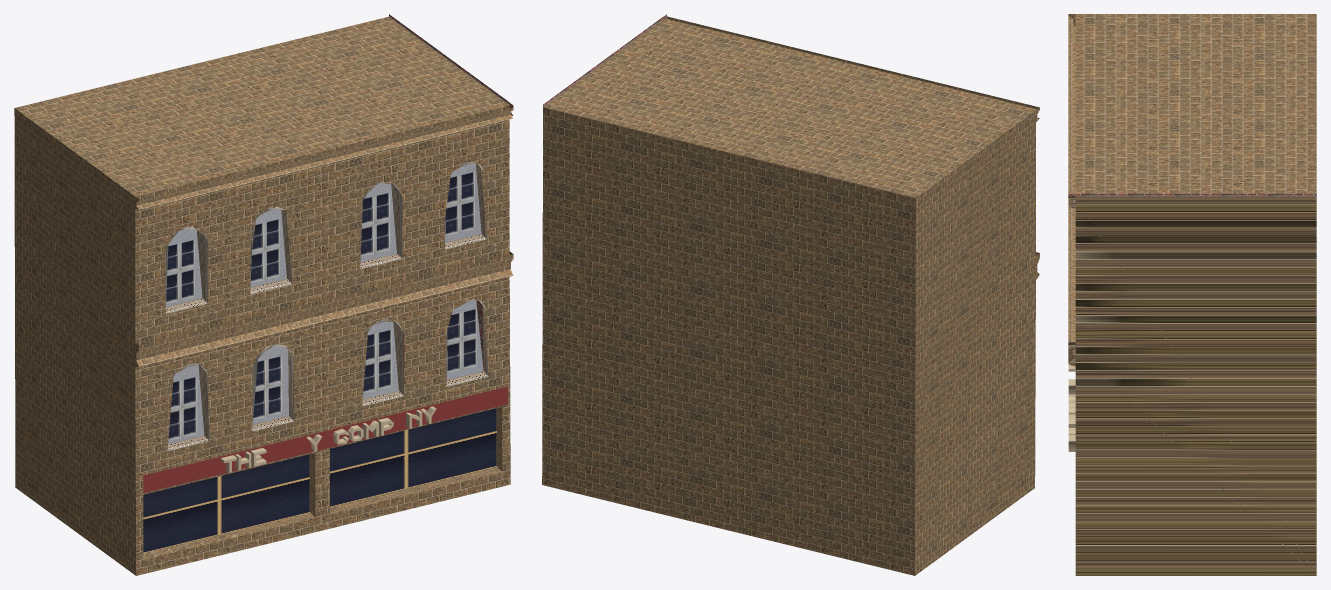
Rendered from Local.obj.
3 views of the same model, side by side, from view 1: azimuth 30°, elevation 25°; view 2: azimuth 150°, elevation 25°; view 3: azimuth 270°, elevation 25° (orthographic).
Parts seen in each view (by area): view 1: Edificio_5; view 2: Edificio_5; view 3: Edificio_5.
Boxes of the visible parts, <box> form: Edificio_5: <box>14,14,513,575</box>; Edificio_5: <box>542,14,1039,575</box>; Edificio_5: <box>1068,14,1316,575</box>.
Size of the model in its own units: 71.52 by 69.62 by 41.09.
Materials: 8 (8 with a texture image).
